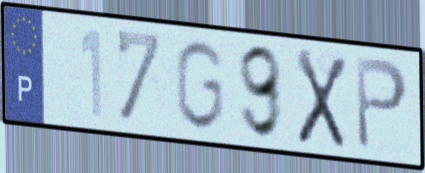1: (78, 27, 104, 121)
7: (114, 26, 163, 126)
9: (234, 42, 286, 142)
G: (172, 37, 227, 134)
P: (353, 54, 411, 154)
X: (294, 45, 350, 153)
